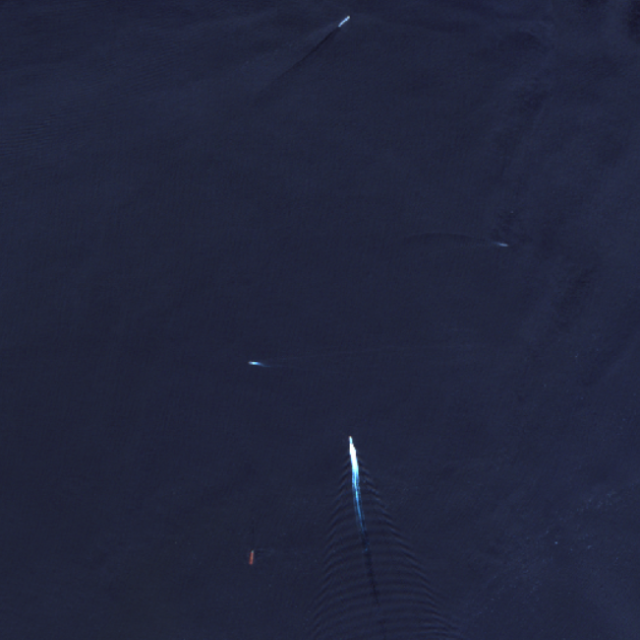wake: (291, 413, 428, 612)
